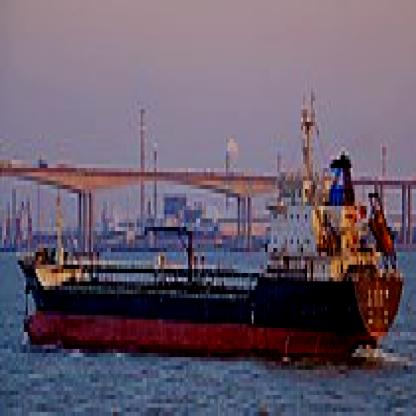Tanker: (10, 122, 406, 370)
